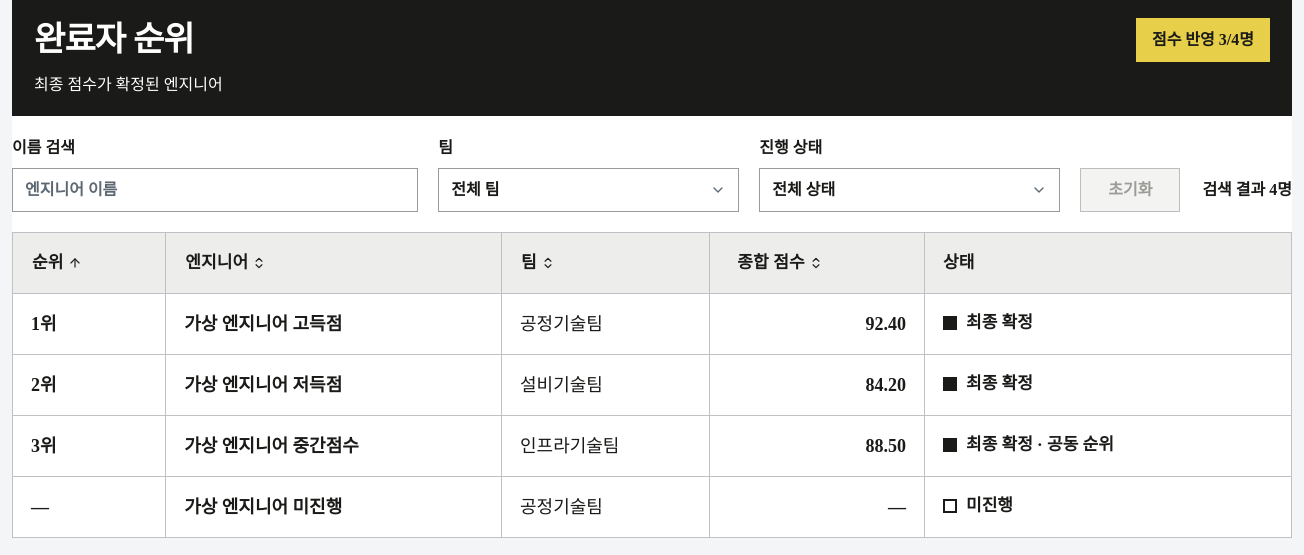
Test case: completed ranking sorting › orders visible desktop rows by total score when the total header is selected
The image size is (1304, 555).
Check: the links read "가상 엔지니어 고득점", "가상 엔지니어 저득점", "가상 엔지니어 중간점수", "가상 엔지니어 미진행", in this order, box [184,314,342,334]; [184,375,342,395]; [184,436,359,456]; [184,497,342,517]
Click the button with aria-label "종합 점수, 현재 정렬 안 됨".
click(780, 263)  # box [728,241,832,285]
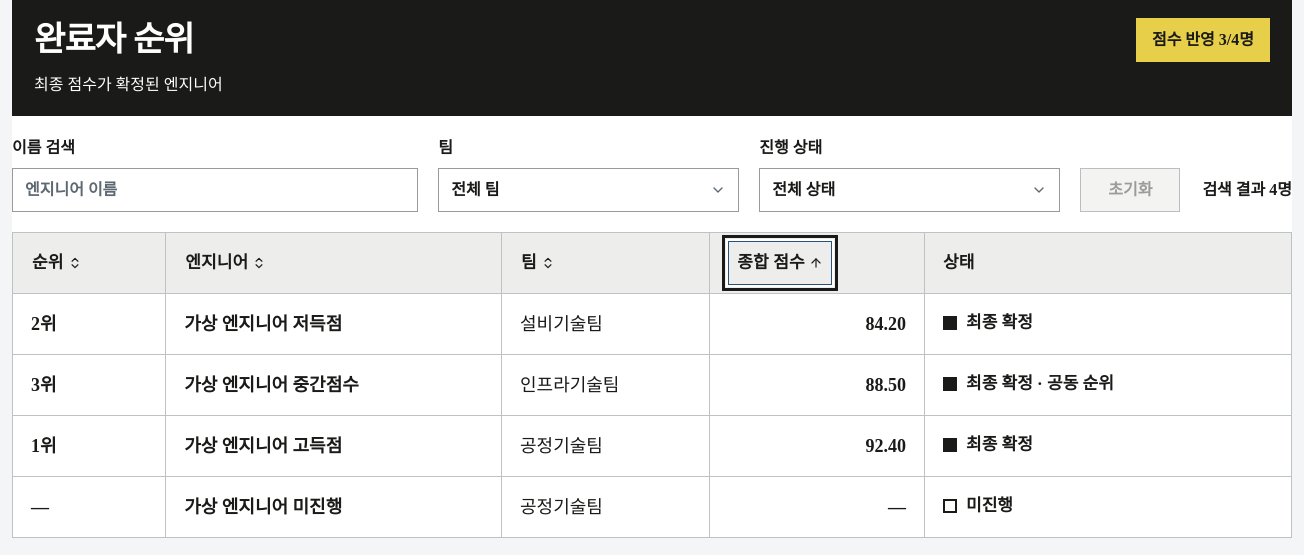
Check: the links read "가상 엔지니어 저득점", "가상 엔지니어 중간점수", "가상 엔지니어 고득점", "가상 엔지니어 미진행", in this order, box [184,314,342,334]; [184,375,359,395]; [184,436,342,456]; [184,497,342,517]
